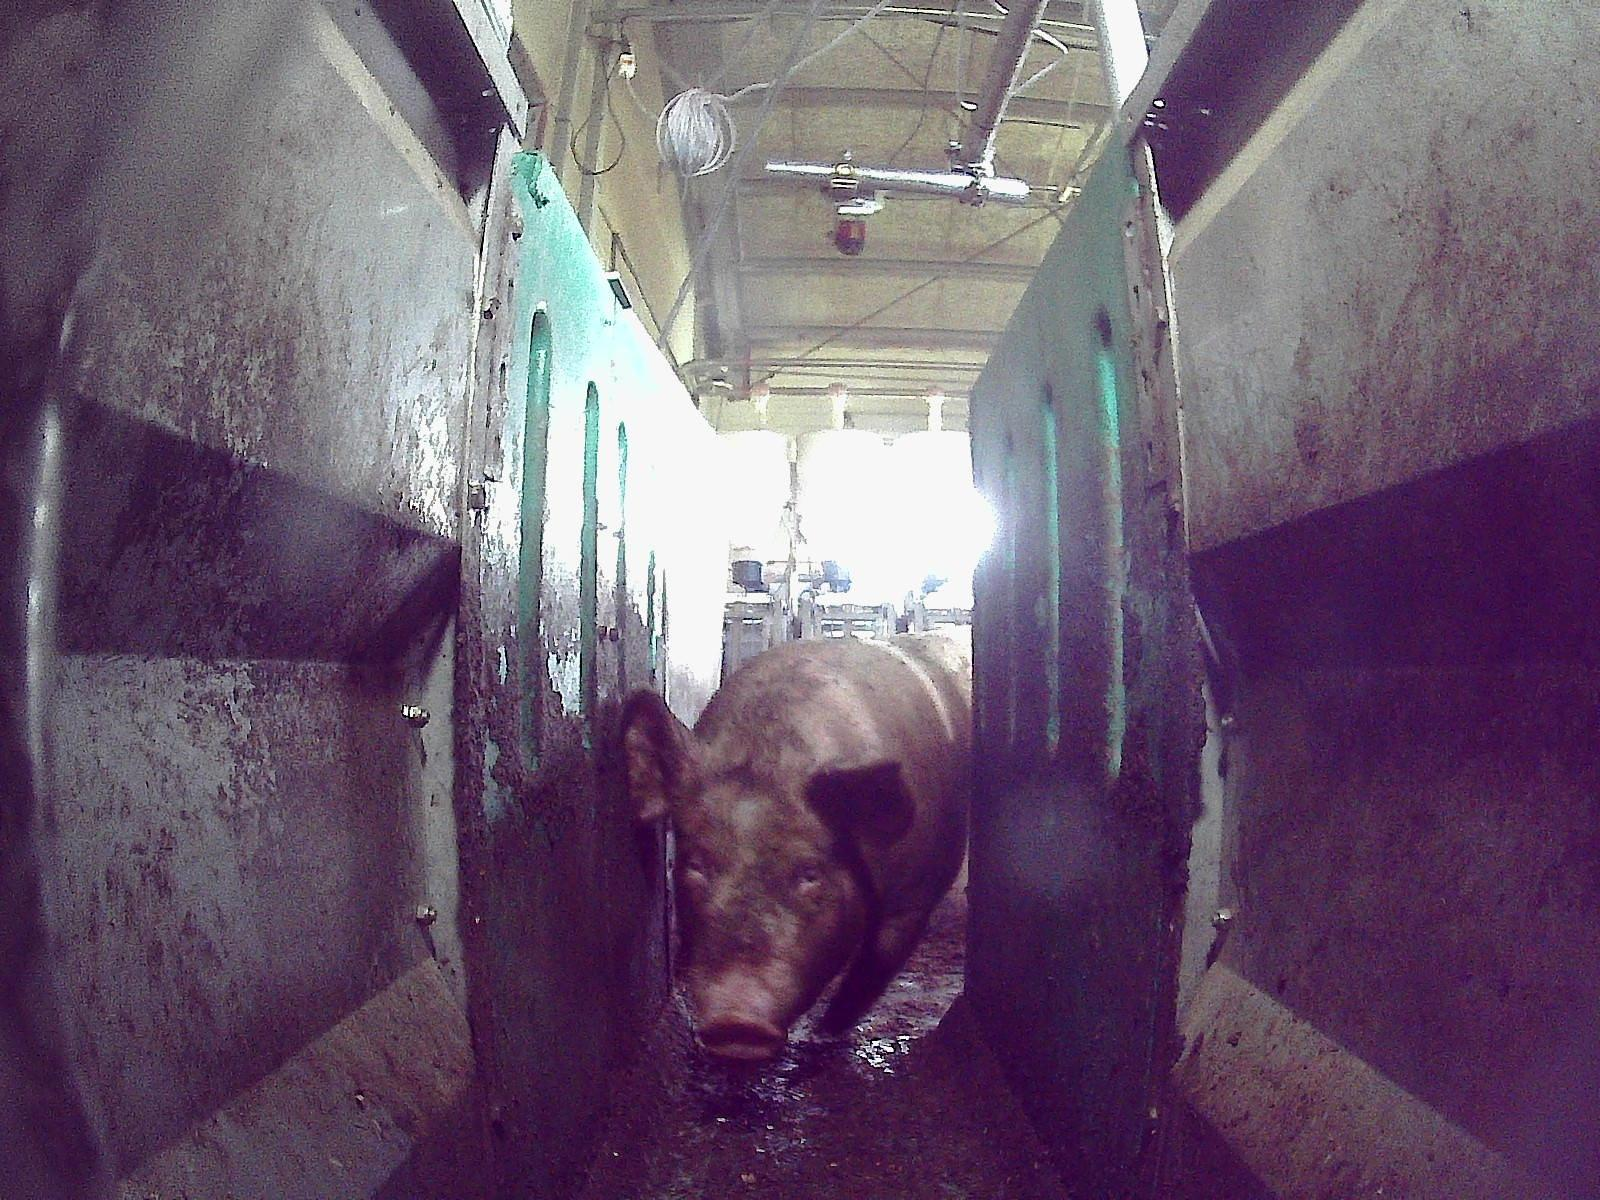Face: (667, 775, 844, 1059)
